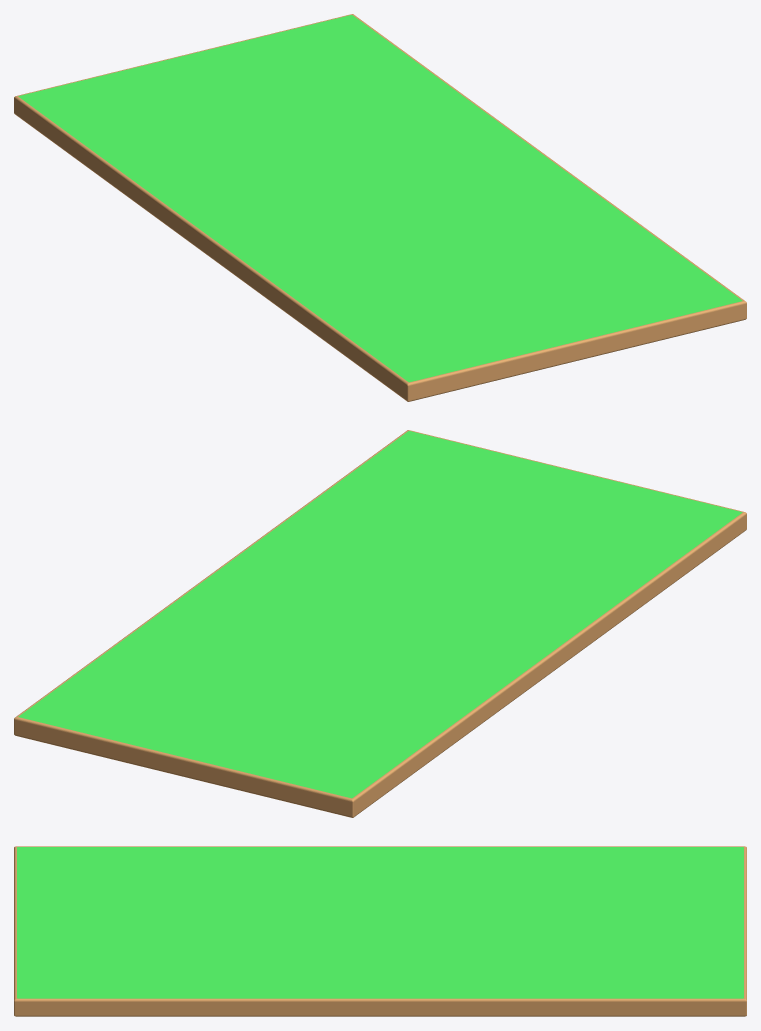
File: table.fbx
3 renders of one model, top to bottom at view 1: azimuth 30°, elevation 25°; view 2: azimuth 150°, elevation 25°; view 3: azimuth 270°, elevation 25°, orthographic. The views are drawn at different scales.
Parts seen in each view (by area): view 1: Cube; view 2: Cube; view 3: Cube.
Part boxes in pixels (box(x1,y1,x2,y2)): Cube: box(14, 14, 746, 401); Cube: box(14, 430, 746, 817); Cube: box(14, 846, 746, 1016).
Size of the model in its own units: 477 by 25.09 by 959.
